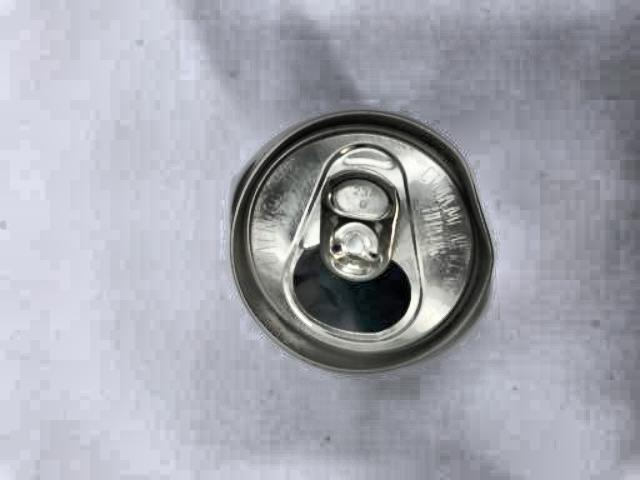Bottles: (220, 99, 505, 364)
